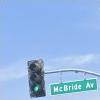traffic lights: (26, 59, 48, 98)
